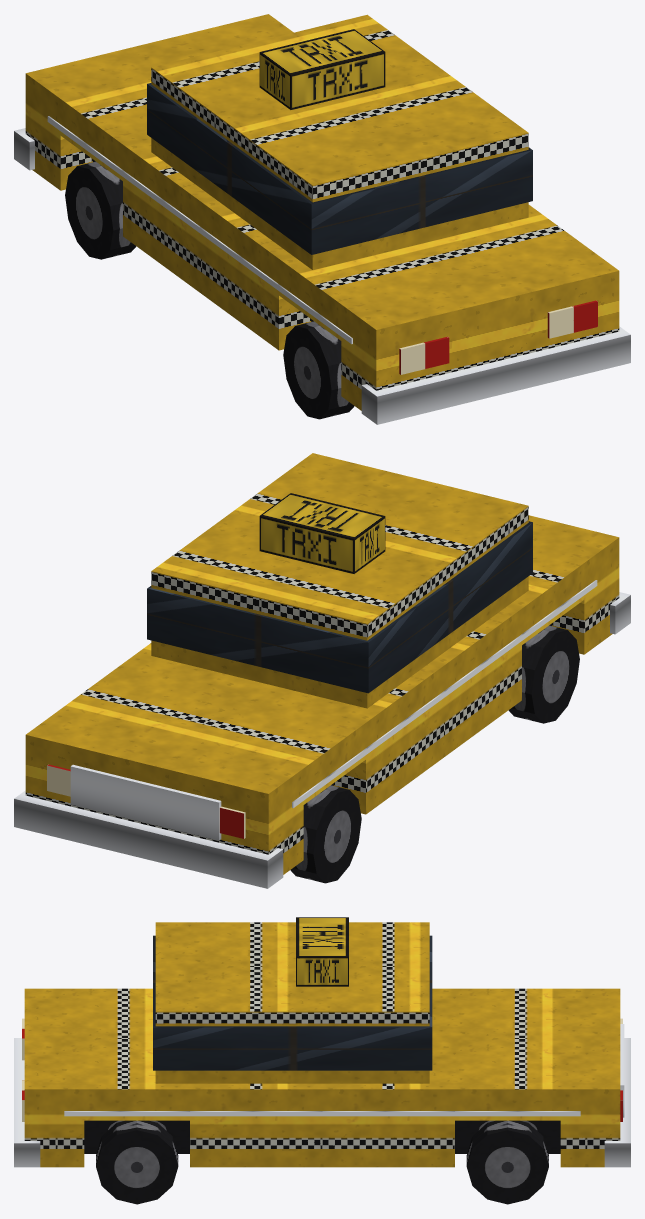
Rendered from Car_Taxi.fbx.
The picture shows the model from 3 angles, top to bottom: view 1: azimuth 30°, elevation 25°; view 2: azimuth 150°, elevation 25°; view 3: azimuth 270°, elevation 25°; orthographic projection. The views are drawn at different scales.
Parts seen in each view (by area): view 1: Car_Taxi; view 2: Car_Taxi; view 3: Car_Taxi.
Boxes of the visible parts, x1,y1,x2,y2 form: Car_Taxi: [14, 14, 630, 424]; Car_Taxi: [14, 453, 630, 888]; Car_Taxi: [14, 917, 630, 1204].
Size of the model in its own units: 1.88 by 1.8 by 4.66.
